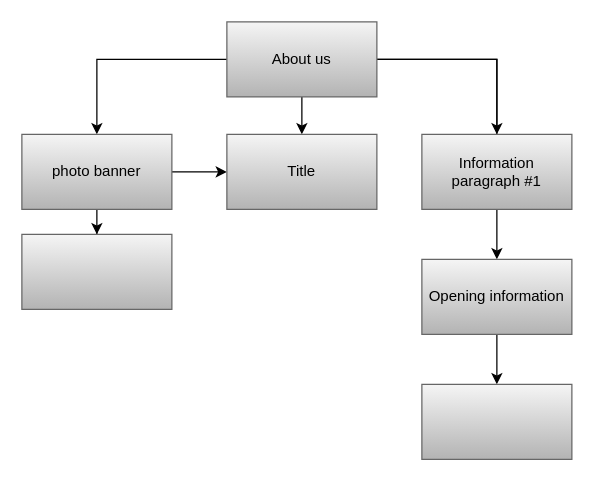
This 594x481 diagram has some shape labels left out. The centre of each missing label's shape, as x and y in pixels:
Contact us information: point (496, 421)
Image #1: point (96, 271)
